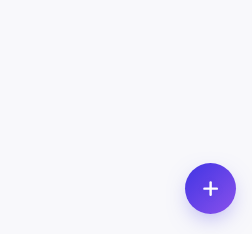
SpeedDialFab › expande e exibe todas as ações com ícone e texto
The width and height of the screenshot is (252, 234).
Step 1. Click the button named "Abrir ações" → (210, 188), box [185,163,236,214]
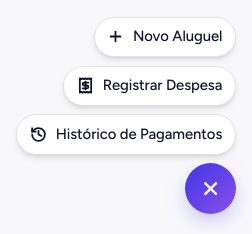
Expected: the menu is shown, [16,17,236,155]
Expected: the menu item "Novo Aluguel" is shown, [94,17,236,57]
Expected: the menu item "Registrar Despesa" is shown, [63,66,236,106]
